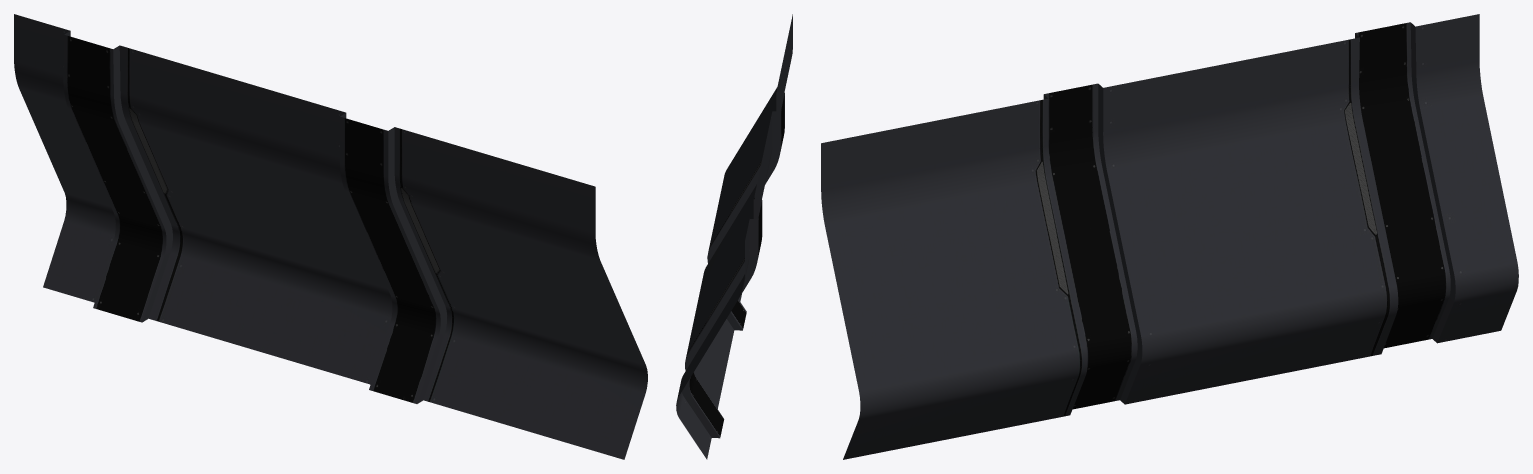
File: wall_in_the_tunnel.glb
3 views of the same model, side by side, from view 1: azimuth 30°, elevation 25°; view 2: azimuth 150°, elevation 25°; view 3: azimuth 270°, elevation 25° (orthographic). The views are drawn at different scales.
Visible parts, largest first — view 1: wall_in_the_tunnel_low; view 2: wall_in_the_tunnel_low; view 3: wall_in_the_tunnel_low.
Part boxes in pixels (x1,y1,x2,y2): wall_in_the_tunnel_low: (14, 14, 647, 459); wall_in_the_tunnel_low: (676, 14, 792, 459); wall_in_the_tunnel_low: (821, 14, 1518, 459).
Size of the model in its own units: 2.13 by 1.78 by 3.8.
1 material, 1 textured.
